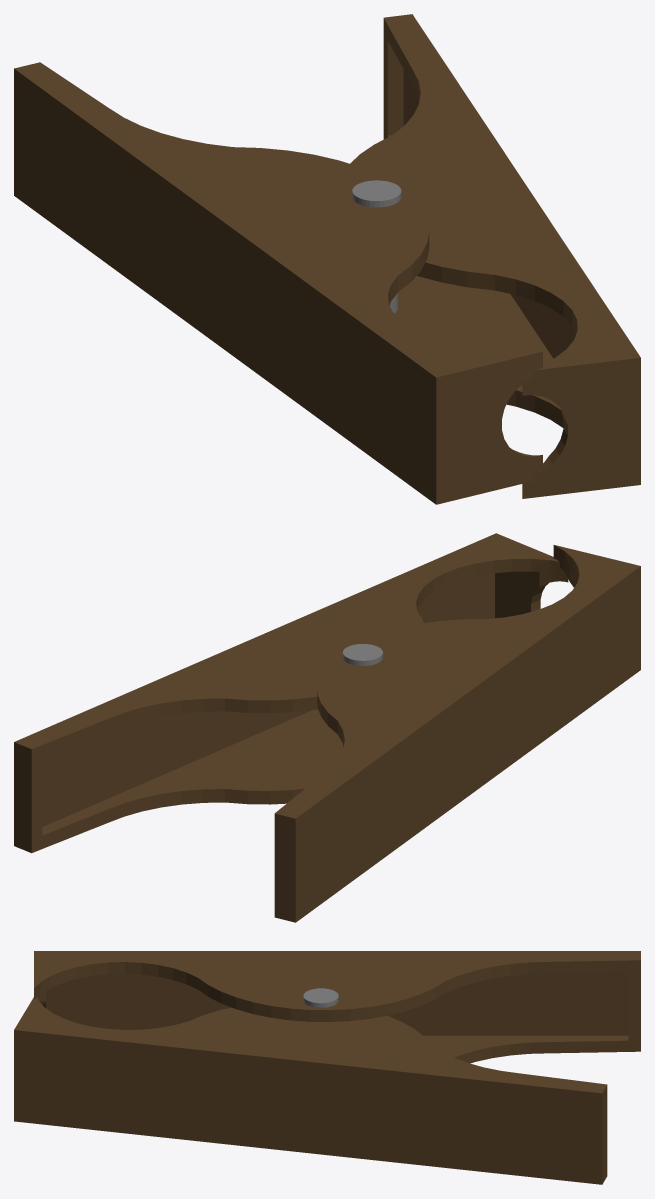
Rendered from Charger clip.fbx.
The picture shows the model from 3 angles, top to bottom: view 1: azimuth 30°, elevation 25°; view 2: azimuth 150°, elevation 25°; view 3: azimuth 270°, elevation 25°; orthographic projection. The views are drawn at different scales.
Visible parts, largest first — view 1: Shape_IndexedFaceSet.002, Shape_IndexedFaceSet.001, Shape_IndexedFaceSet; view 2: Shape_IndexedFaceSet.002, Shape_IndexedFaceSet.001, Shape_IndexedFaceSet; view 3: Shape_IndexedFaceSet.001, Shape_IndexedFaceSet.002, Shape_IndexedFaceSet.
Boxes of the visible parts, <box> form: Shape_IndexedFaceSet.002: <box>14,62,542,504</box>; Shape_IndexedFaceSet.001: <box>350,14,640,498</box>; Shape_IndexedFaceSet: <box>352,180,401,313</box>; Shape_IndexedFaceSet.002: <box>274,545,640,922</box>; Shape_IndexedFaceSet.001: <box>14,533,568,853</box>; Shape_IndexedFaceSet: <box>343,644,382,665</box>; Shape_IndexedFaceSet.001: <box>14,997,607,1184</box>; Shape_IndexedFaceSet.002: <box>34,951,640,1063</box>; Shape_IndexedFaceSet: <box>303,988,338,1007</box>.
Bounding box in the file's own units: 3.06 × 1.25 × 6.21.
